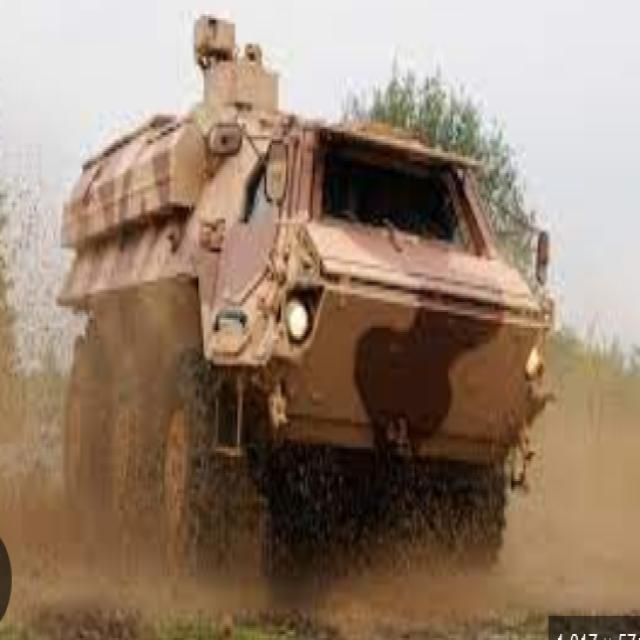MIL_APC: (46, 89, 568, 584)
